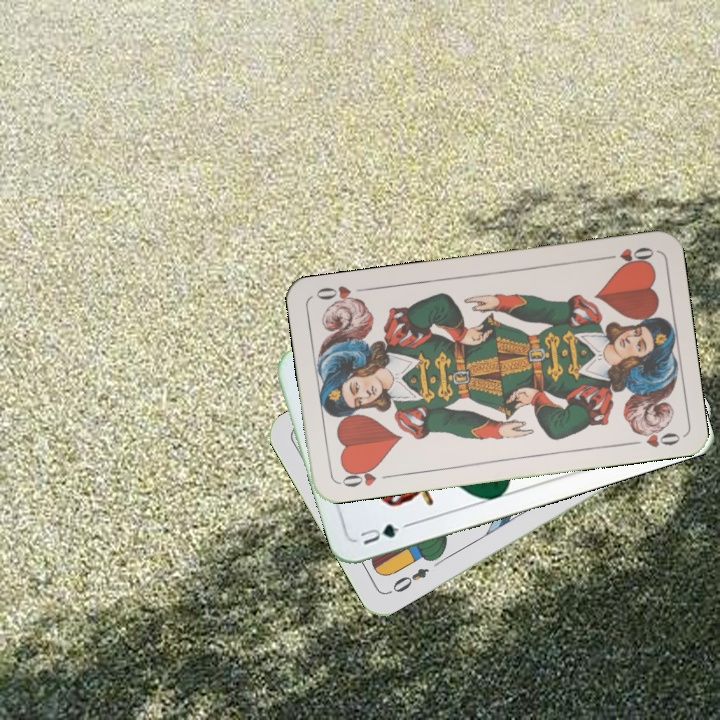EO: (384, 563, 432, 597)
GU: (356, 519, 402, 548)
HO: (336, 462, 395, 490), (598, 243, 656, 269)
